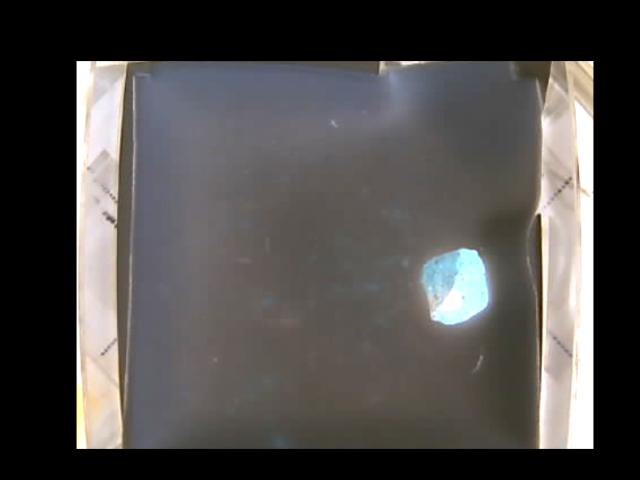Brisk: (422, 247, 487, 320)
